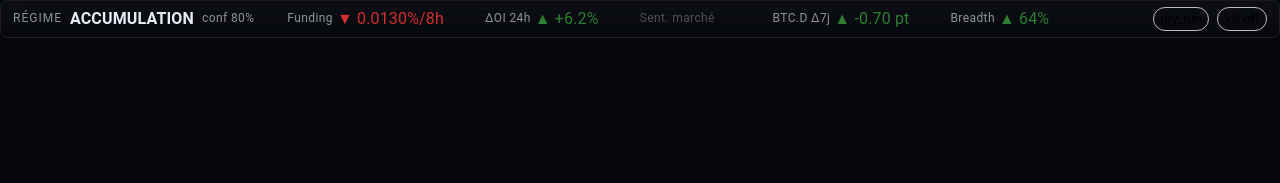
Test: RegimeStrip › affiche « fraîcheur inconnue » pour un driver mesuré (voté) sans as_of, jamais « non mesuré »
Expected: the text "ACCUMULATION" is shown, 70,7 -> 194,31
Click the button with test id "driver-funding" at (361,19), box 270,7 -> 452,31
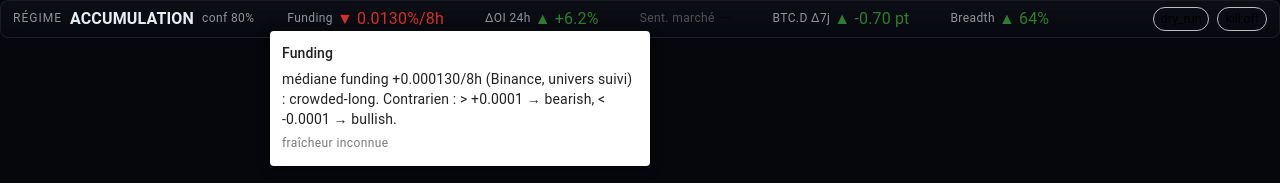
Expected: the text "fraîcheur inconnue" is shown, 282,136 -> 388,150
